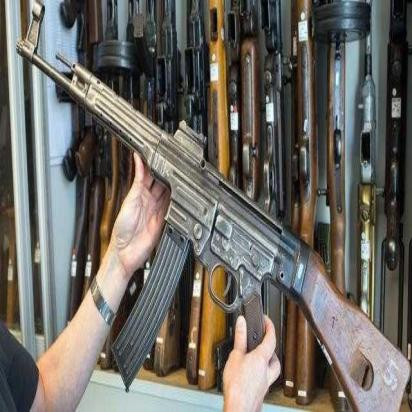Gun: (15, 12, 412, 412)
